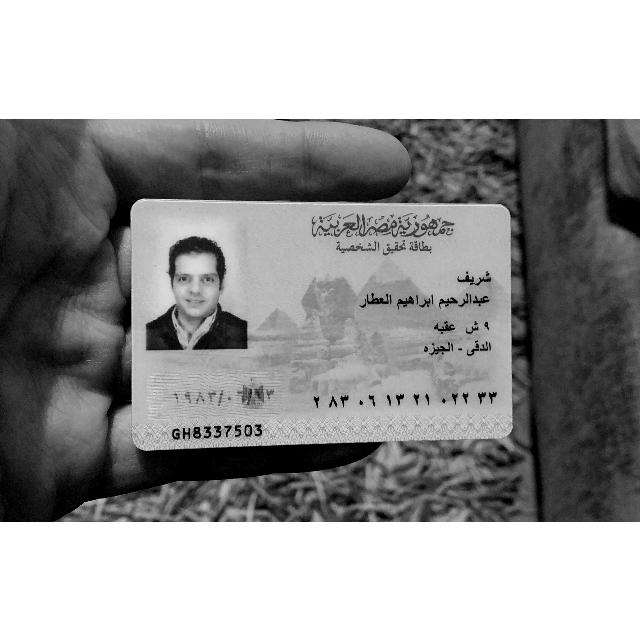front: (130, 198, 512, 450)
